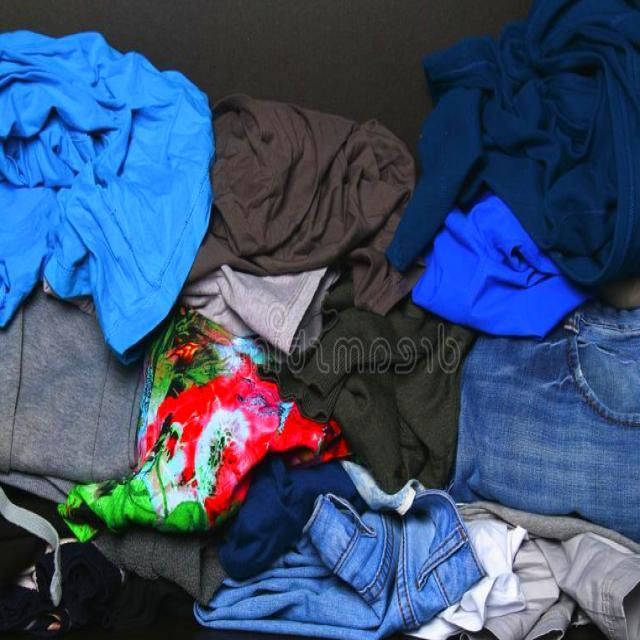clothes: (220, 49, 632, 617)
